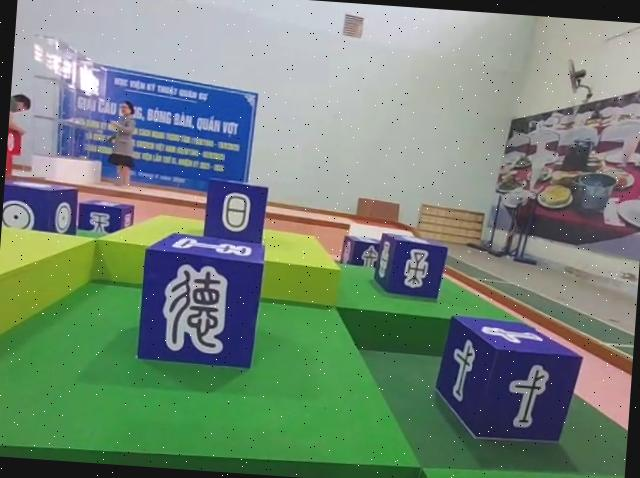R2 Fake Blue: (135, 232, 265, 370), (201, 177, 266, 246), (338, 233, 381, 268)
R2 Real Blue: (432, 316, 582, 448), (372, 231, 449, 301), (0, 179, 79, 236), (76, 198, 133, 236)
